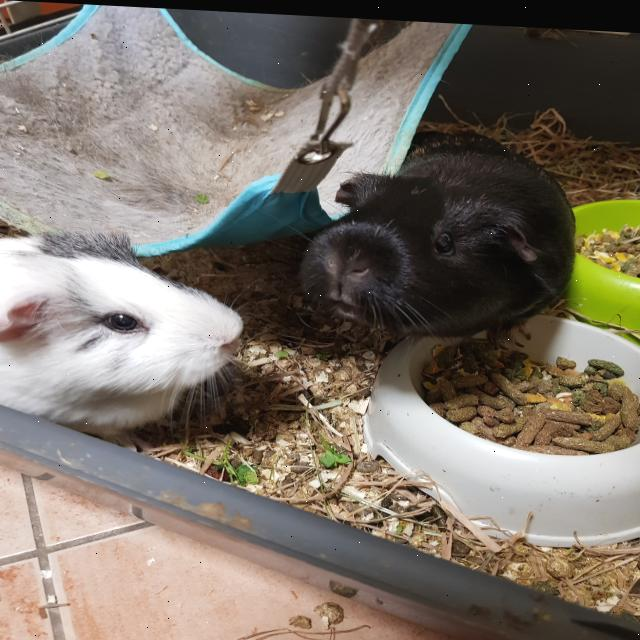guinea pig: (297, 118, 580, 351), (0, 225, 251, 459)
